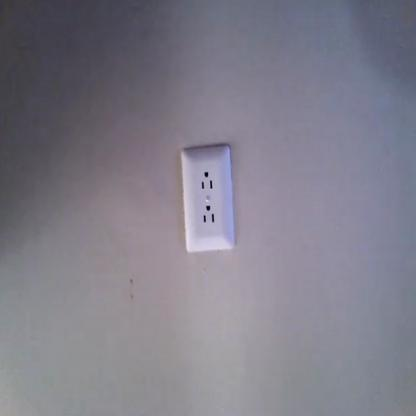OUTLET: (184, 145, 235, 252)
